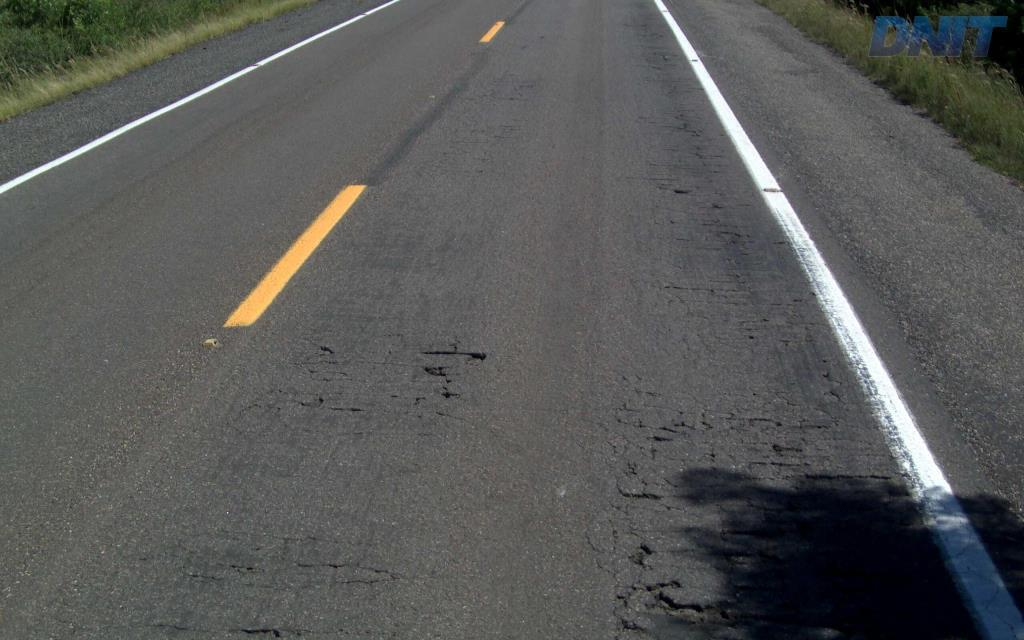crack: (653, 590, 705, 617), (804, 469, 891, 480)
